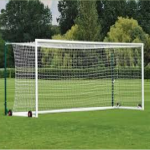goals: (11, 38, 145, 118)
